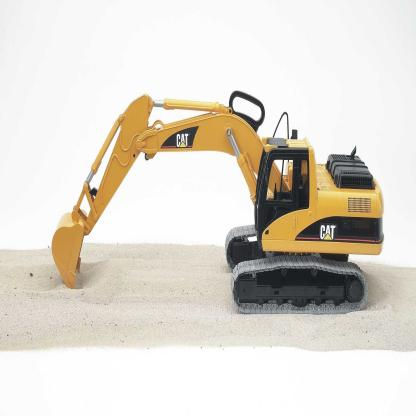excavator: (51, 67, 388, 328)
